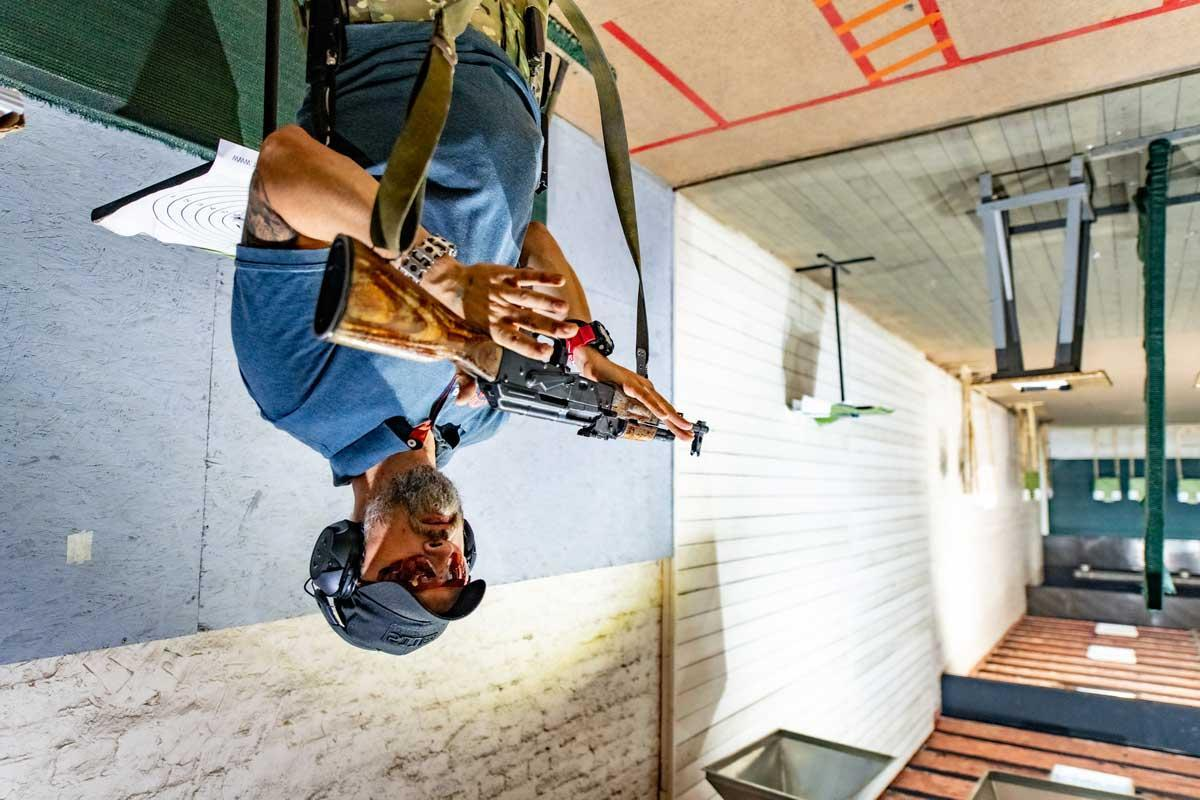larga: (315, 231, 710, 459)
